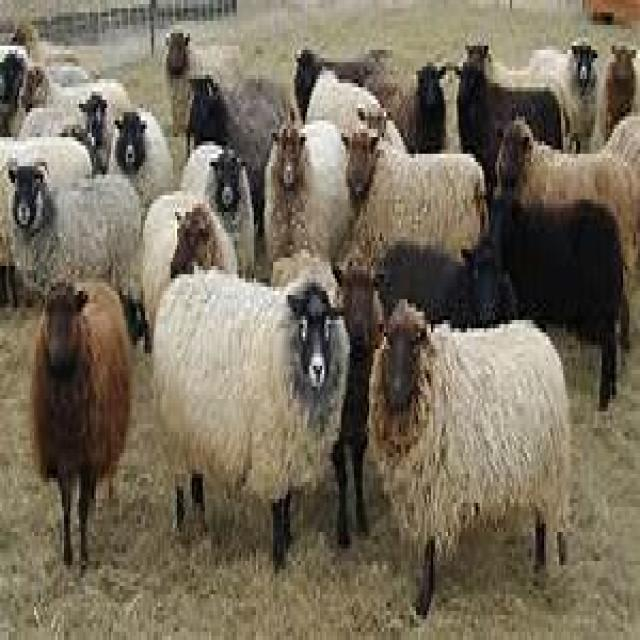animal: (367, 295, 572, 619), (151, 262, 350, 569), (30, 274, 136, 574), (4, 154, 145, 345), (495, 112, 638, 270), (339, 120, 489, 262), (141, 187, 237, 353), (0, 133, 92, 303), (263, 116, 354, 270), (179, 137, 254, 279), (106, 104, 172, 212)
